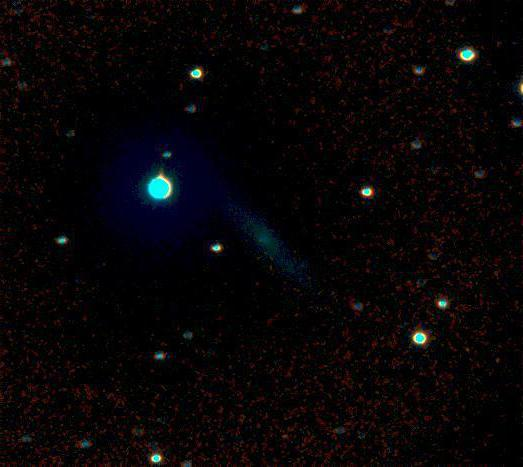star: (293, 247, 323, 277)
